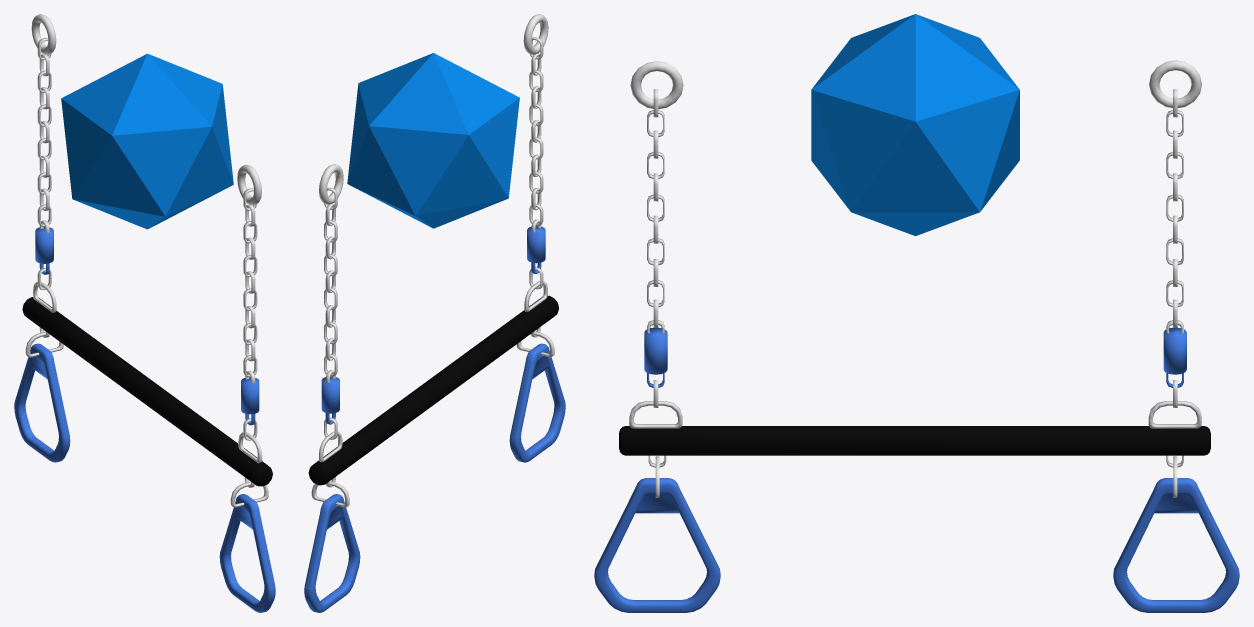
File: Trapeze swing 8ft.glb
3 views of the same model, side by side, from view 1: azimuth 30°, elevation 25°; view 2: azimuth 150°, elevation 25°; view 3: azimuth 270°, elevation 25° (orthographic). The views are drawn at different scales.
Parts seen in each view (by area): view 1: Joint.039, Cylinder.013, Torus; view 2: Joint.039, Cylinder.013, Torus; view 3: Cylinder.013, Joint.039, Torus.
Part boxes in pixels (<box>): Joint.039: <box>61,53,233,229</box>; Cylinder.013: <box>14,38,275,612</box>; Torus: <box>31,14,261,205</box>; Joint.039: <box>347,53,519,228</box>; Cylinder.013: <box>304,37,565,612</box>; Torus: <box>319,14,548,204</box>; Cylinder.013: <box>594,89,1239,612</box>; Joint.039: <box>811,14,1019,236</box>; Torus: <box>630,60,1201,109</box>.
Bounding box in the file's own units: 0.2726 × 0.8212 × 0.8021.
